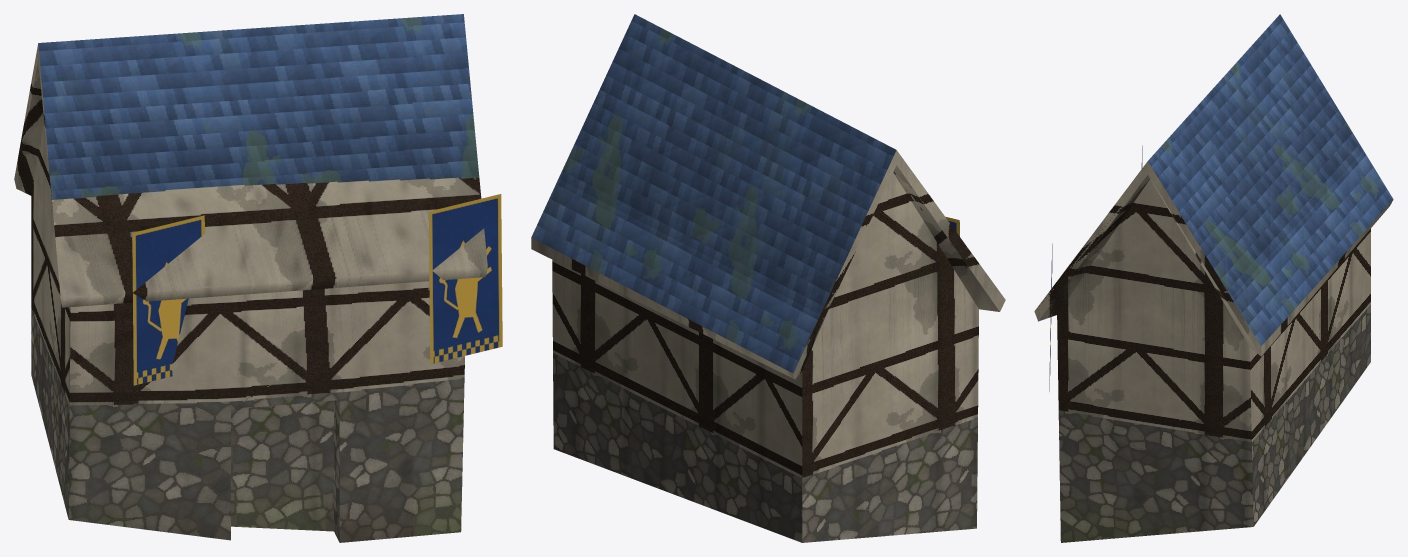
File: house_05_card.glb
The picture shows the model from 3 angles, left to right: view 1: azimuth 30°, elevation 25°; view 2: azimuth 150°, elevation 25°; view 3: azimuth 270°, elevation 25°; orthographic projection. The views are drawn at different scales.
Visible parts, largest first — view 1: house_05_game_card; view 2: house_05_game_card; view 3: house_05_game_card.
Boxes of the visible parts, x1,y1,x2,y2 form: house_05_game_card: (14, 14, 502, 542); house_05_game_card: (531, 14, 1005, 542); house_05_game_card: (1034, 14, 1393, 542).
Bounding box in the file's own units: 8.42 × 8.64 × 6.96.
Materials: 1 (1 with a texture image).
